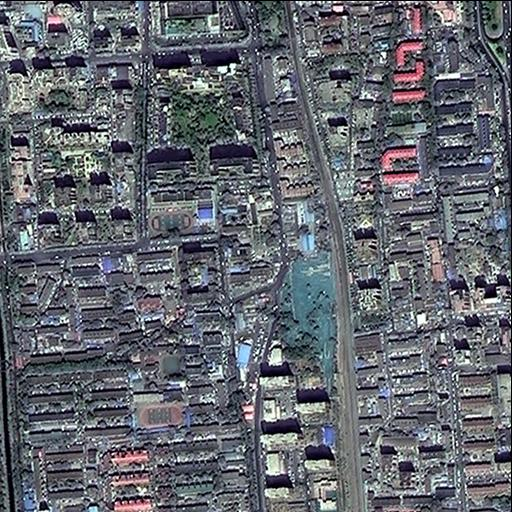school: (128, 353, 186, 429), (145, 185, 214, 234), (382, 101, 433, 136)
